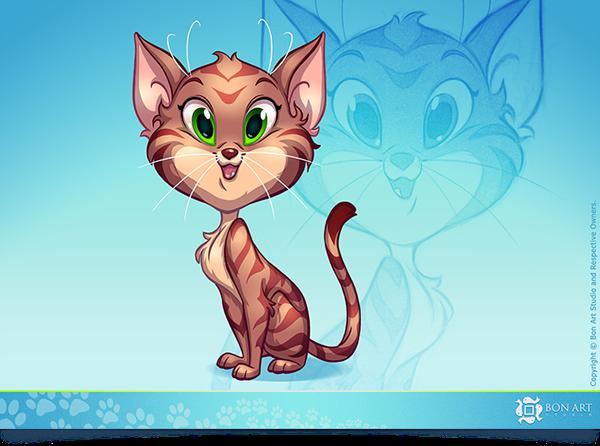cat: (261, 1, 553, 393), (127, 23, 365, 388)
